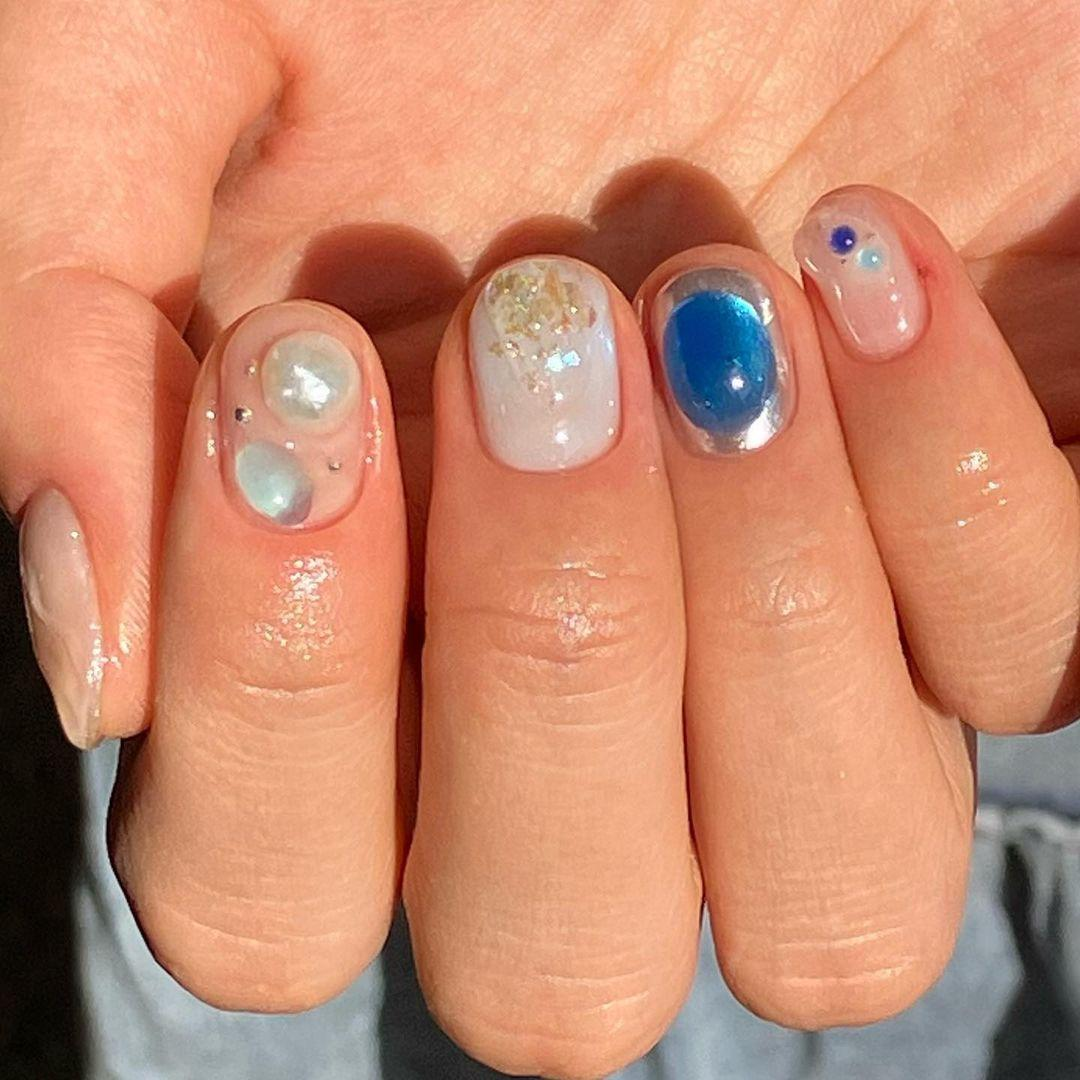nail: (634, 240, 976, 1032), (402, 250, 704, 1077), (105, 295, 409, 1014), (791, 180, 1078, 736), (647, 262, 797, 457), (16, 481, 107, 750)
